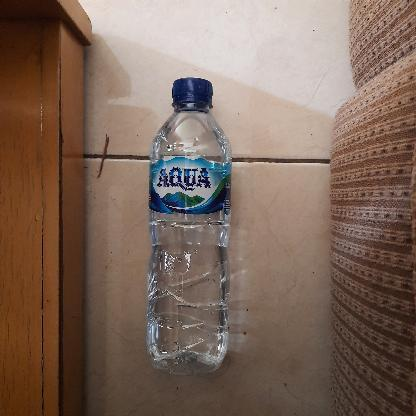Plastic Bottle: (142, 75, 236, 375)
